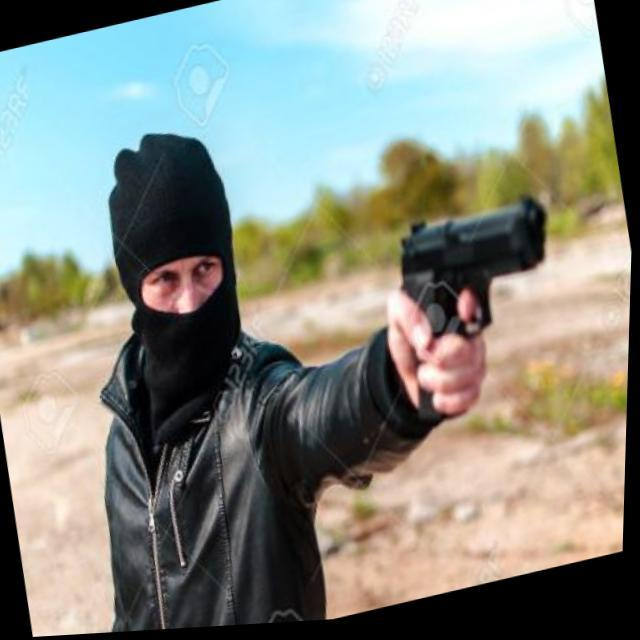weapon: (368, 184, 594, 455)
